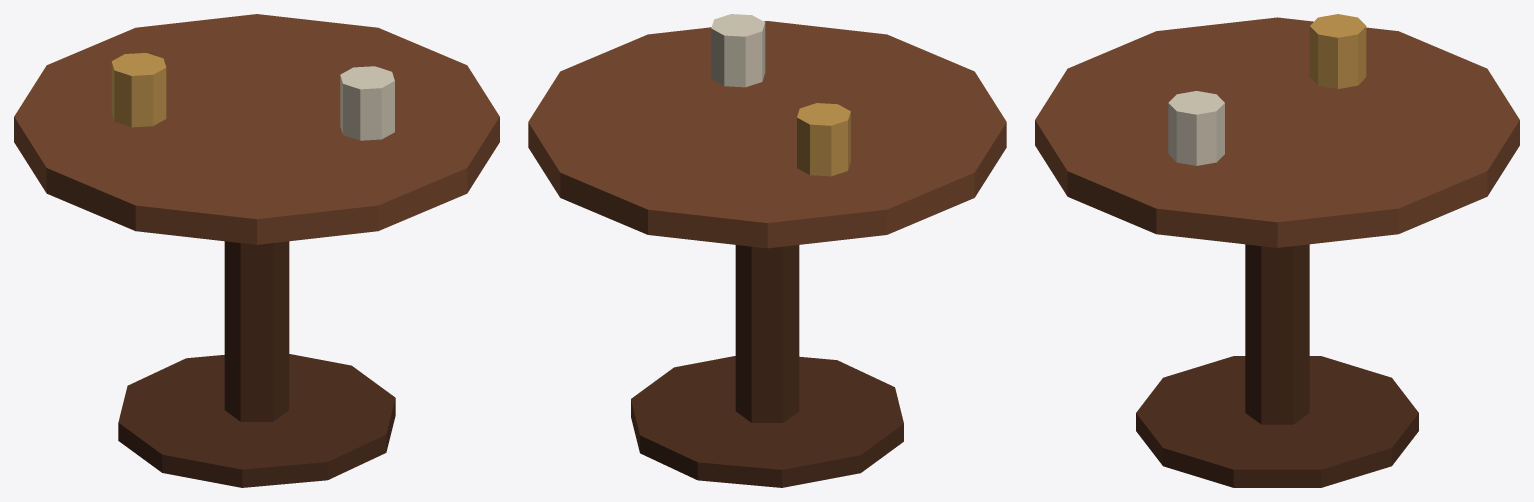
File: table.gltf
3 views of the same model, side by side, from view 1: azimuth 30°, elevation 25°; view 2: azimuth 150°, elevation 25°; view 3: azimuth 270°, elevation 25° (orthographic).
Parts seen in each view (by area): view 1: top, foot, leg, mug.2, mug; view 2: top, foot, leg, mug, mug.2; view 3: top, foot, leg, mug.2, mug.
Boxes of the visible parts, x1,y1,x2,y2 form: top: (14,14,499,244); foot: (118,354,395,487); leg: (224,241,289,421); mug.2: (111,53,166,127); mug: (340,66,394,140); top: (528,21,1006,248); foot: (631,356,903,487); leg: (735,245,799,422); mug: (711,14,765,87); mug.2: (797,103,850,176); top: (1035,17,1519,247); foot: (1136,356,1418,487); leg: (1245,244,1309,424); mug.2: (1309,14,1366,88); mug: (1168,91,1224,165).
Bounding box in the file's own units: 1.2 × 0.99 × 1.2.
